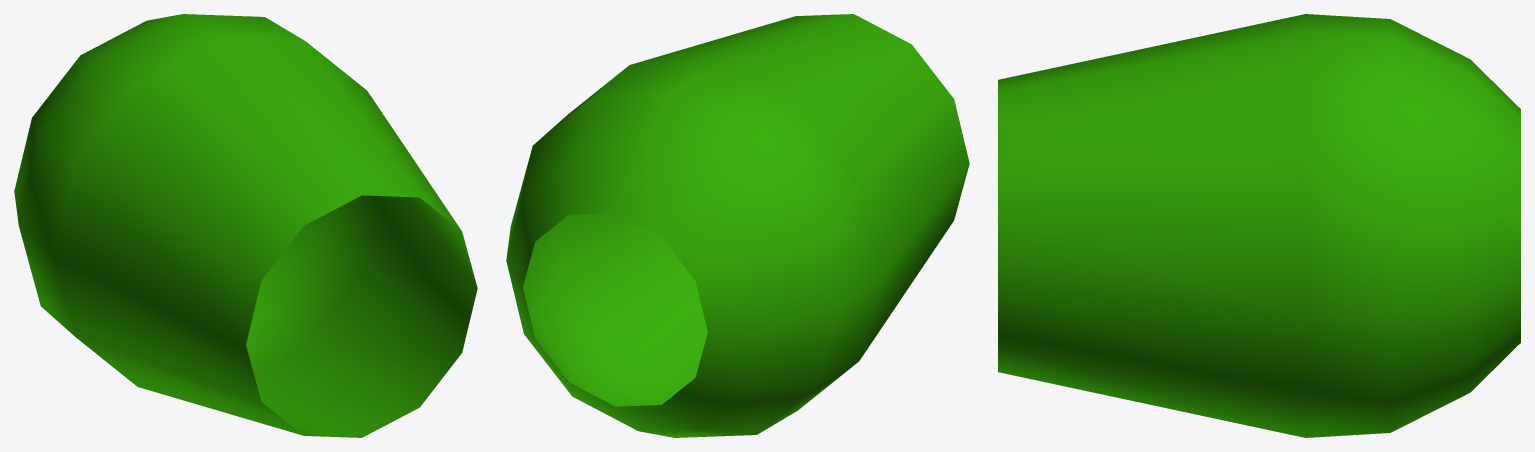
File: truclr_ParticleMesh_BossLaserMuzzleFlash.fbx
3 views of the same model, side by side, from view 1: azimuth 30°, elevation 25°; view 2: azimuth 150°, elevation 25°; view 3: azimuth 270°, elevation 25° (orthographic). The views are drawn at different scales.
Visible parts, largest first — view 1: pCylinder3; view 2: pCylinder3; view 3: pCylinder3.
Part boxes in pixels (box(x1,y1,x2,y2)): pCylinder3: box(14, 14, 477, 437); pCylinder3: box(506, 14, 969, 437); pCylinder3: box(998, 14, 1520, 437).
Size of the model in its own units: 0.00486 by 0.00486 by 0.00597.
